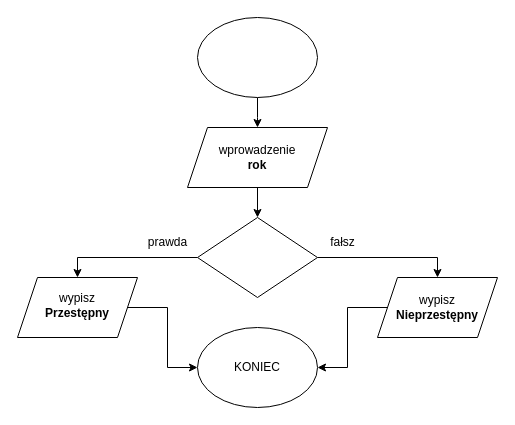
Some shapes in this 515 by 425 pixel diagram are drawn without their labels. Each missing label, with the centre of its shape:
czy rok mod 4 = 0: the point at 257,257
START: the point at 257,57
